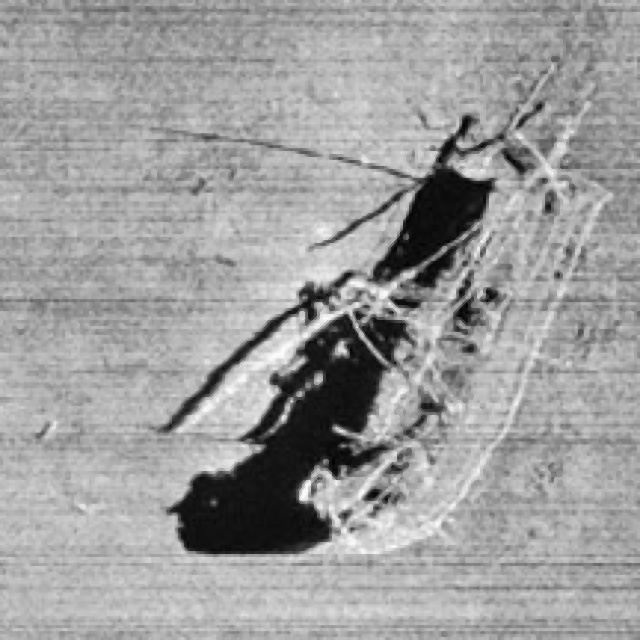Ship: (288, 52, 616, 560)
